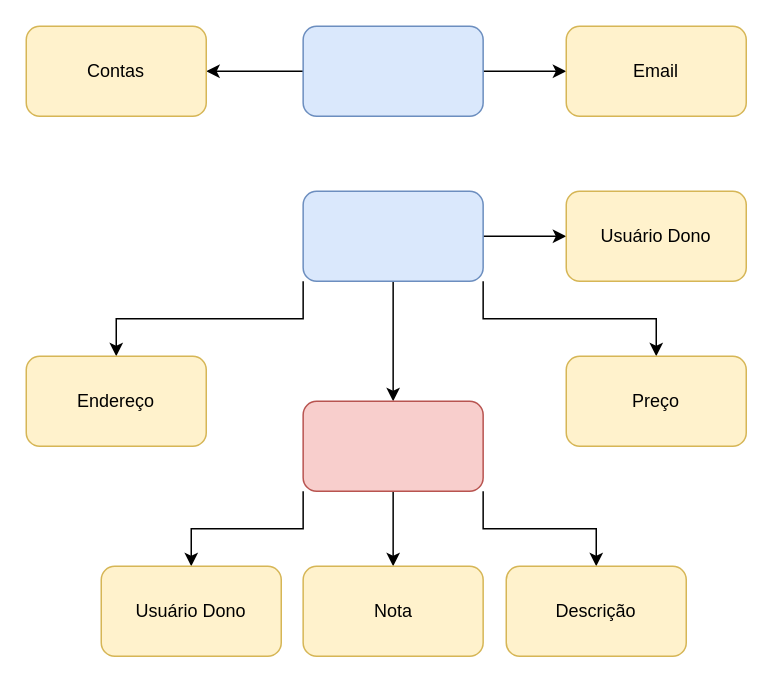
Some shapes in this 773 by 683 pixel diagram are drawn without their labels. Here are the shapes that lost their labels. From the top down, the centre of each, then its label:
the point at 392,70: Usuários
the point at 392,235: Lugares
the point at 392,445: Avaliações
